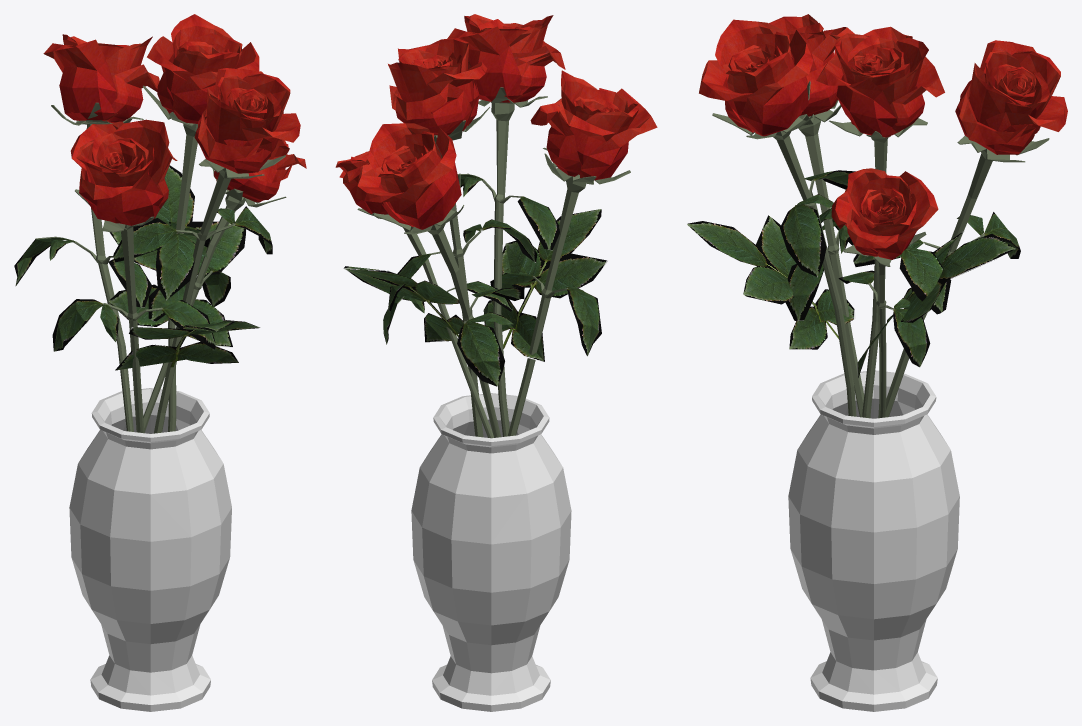
File: sweethome3d-scopia-roses.glb
The picture shows the model from 3 angles, left to right: view 1: azimuth 30°, elevation 25°; view 2: azimuth 150°, elevation 25°; view 3: azimuth 270°, elevation 25°; orthographic projection. The views are drawn at different scales.
Parts seen in each view (by area): view 1: Jar, rose.001, rose.004, rose.002, rose, Leaves.004, Leaves.001, leaves.006, stem.004, stem.001, stem.002, leaves.004 (+6 smaller); view 2: Jar, rose.002, rose.001, rose, rose.004, Leaves.001, stem.004, stem.001, leaves.001, Leaves.004, stem.002, leaves.006 (+6 smaller); view 3: Jar, rose.004, rose, rose.002, rose.003, Leaves.001, leaves.004, Leaves.004, stem.004, stem.001, rose.001, stem.002 (+6 smaller).
Part boxes in pixels (x1,y1,x2,y2): Jar: (69,388,231,711); rose.001: (70,119,177,225); rose.004: (194,68,300,173); rose.002: (43,34,159,122); rose: (147,14,259,123); Leaves.004: (108,165,246,347); Leaves.001: (115,320,260,370); leaves.006: (52,299,215,351); stem.004: (154,155,285,433); stem.001: (75,189,162,433); stem.002: (35,102,143,431); leaves.004: (113,206,272,262); Jar: (411,393,571,711); rose.002: (356,123,461,229); rose.001: (530,70,657,180); rose: (388,37,487,135); rose.004: (447,14,565,102); Leaves.001: (483,209,607,361); stem.004: (457,87,547,436); stem.001: (507,147,630,436); leaves.001: (457,287,524,386); Leaves.004: (343,266,464,342); stem.002: (373,173,501,437); leaves.006: (490,273,601,356); Jar: (788,370,959,711); rose.004: (699,19,813,136); rose: (816,26,944,138); rose.002: (955,40,1067,154); rose.003: (831,168,938,259); Leaves.001: (687,214,855,349); leaves.004: (780,170,855,277); Leaves.004: (857,231,1015,378); stem.004: (712,81,856,416); stem.001: (798,100,864,417); rose.001: (769,14,854,116); stem.002: (885,136,1049,417).
Bounding box in the file's own units: 22.78 × 52.94 × 27.28.
Materials: 5 (2 with a texture image).
